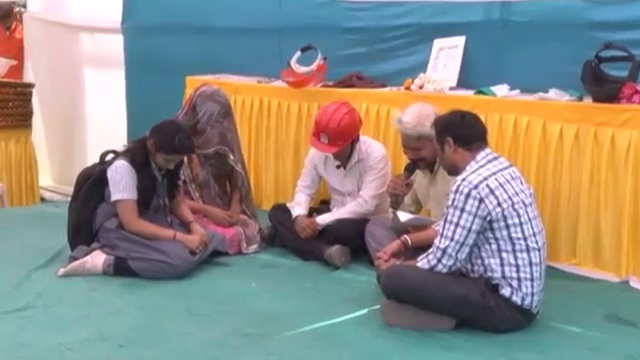helmet: (304, 99, 370, 149), (0, 54, 19, 80)
helmet_off: (434, 109, 491, 175), (181, 86, 234, 151), (140, 117, 194, 175), (396, 99, 440, 169), (0, 2, 22, 27)
helmet_on: (304, 99, 370, 169)
person: (357, 103, 549, 330), (61, 119, 217, 280), (259, 97, 392, 263), (167, 84, 262, 255), (365, 104, 463, 266), (0, 2, 28, 80)
